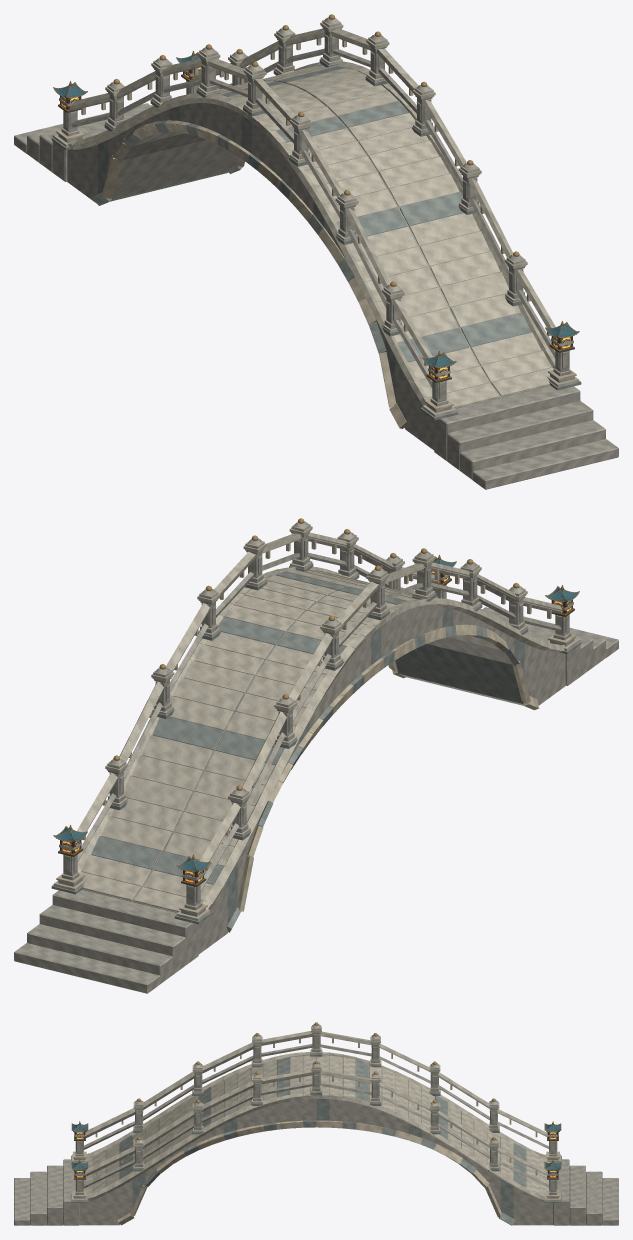
The picture shows the model from 3 angles, top to bottom: view 1: azimuth 30°, elevation 25°; view 2: azimuth 150°, elevation 25°; view 3: azimuth 270°, elevation 25°; orthographic projection. The views are drawn at different scales.
Parts seen in each view (by area): view 1: C15_light, C15_stone, C15_cool, C15_relief, C15_blue, C15_gold; view 2: C15_light, C15_stone, C15_cool, C15_relief, C15_blue, C15_gold; view 3: C15_stone, C15_light, C15_cool, C15_relief, C15_blue, C15_gold.
Part boxes in pixels (left/top/right/bottom): C15_light: left=53, top=20, right=579, bottom=416; C15_stone: left=14, top=17, right=618, bottom=489; C15_cool: left=51, top=28, right=581, bottom=420; C15_relief: left=56, top=38, right=576, bottom=428; C15_blue: left=54, top=53, right=578, bottom=367; C15_gold: left=53, top=51, right=579, bottom=380; C15_light: left=53, top=524, right=579, bottom=920; C15_stone: left=14, top=521, right=618, bottom=993; C15_cool: left=51, top=532, right=581, bottom=932; C15_relief: left=56, top=540, right=576, bottom=914; C15_blue: left=54, top=557, right=578, bottom=871; C15_gold: left=53, top=555, right=579, bottom=884; C15_stone: left=14, top=1024, right=618, bottom=1225; C15_light: left=72, top=1025, right=560, bottom=1203; C15_cool: left=71, top=1033, right=561, bottom=1225; C15_relief: left=73, top=1038, right=559, bottom=1225; C15_blue: left=72, top=1124, right=560, bottom=1170; C15_gold: left=71, top=1121, right=561, bottom=1178.
Bounding box in the file's own units: 3.64 × 6.03 × 20.2.
11 materials, 5 textured.
